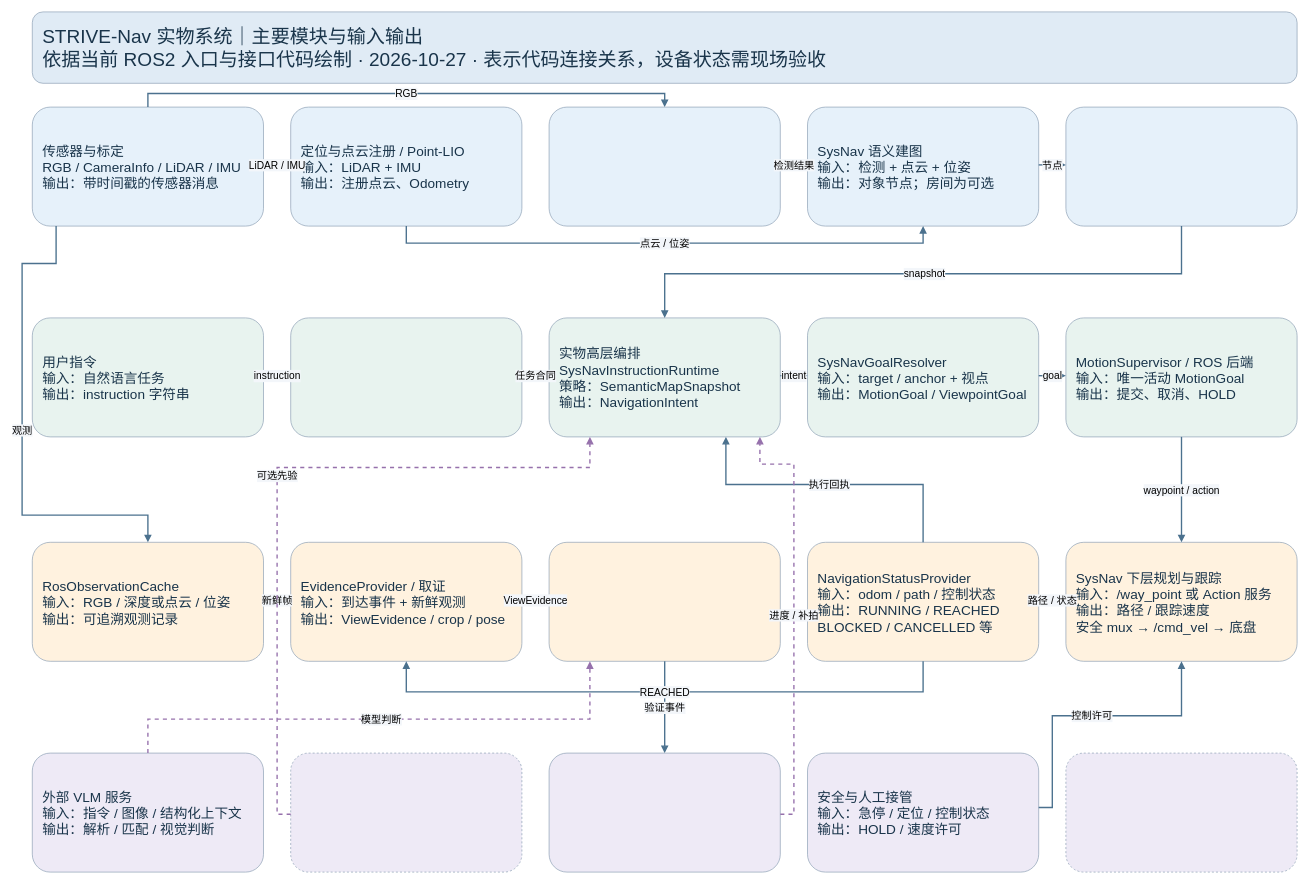
This 1309x884 diagram has some shape labels left out. Here are the shapes that lost their labels. From the top down, the box of each, then its label:
(548, 106, 780, 226): 检测 / 分割 / 跟踪 输入：RGB + 检测词表 输出：/detection_result
(1065, 106, 1297, 226): ROS adapters / MapBridge 输入：对象、房间、位姿、视点 输出：SemanticMapSnapshot
(290, 317, 522, 437): 指令编译 / 任务合同 输入：instruction 输出：InstructionPlan / TaskSpec
(548, 542, 780, 661): 关系 / 最终视觉验证 输入：任务 + 证据 + 几何 输出：accept / reject / 补拍
(290, 752, 522, 872): 可选：先验 / 历史记忆 输入：已加载地图 + 坐标对齐 输出：候选与搜索上下文
(548, 752, 780, 872): 任务进度与日志 输入：验证结果 / 运动事实 输出：进度、完成状态、trace
(1065, 752, 1297, 872): 实施边界 默认 policy=wait / dry_run 实物 Agent/Skills 循环未默认接入 历史记忆整链与实物运动待验收
